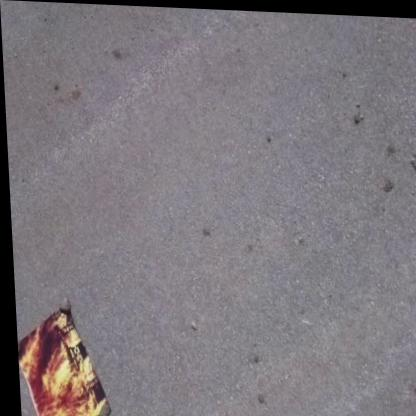fire-poster: (12, 294, 108, 416)
